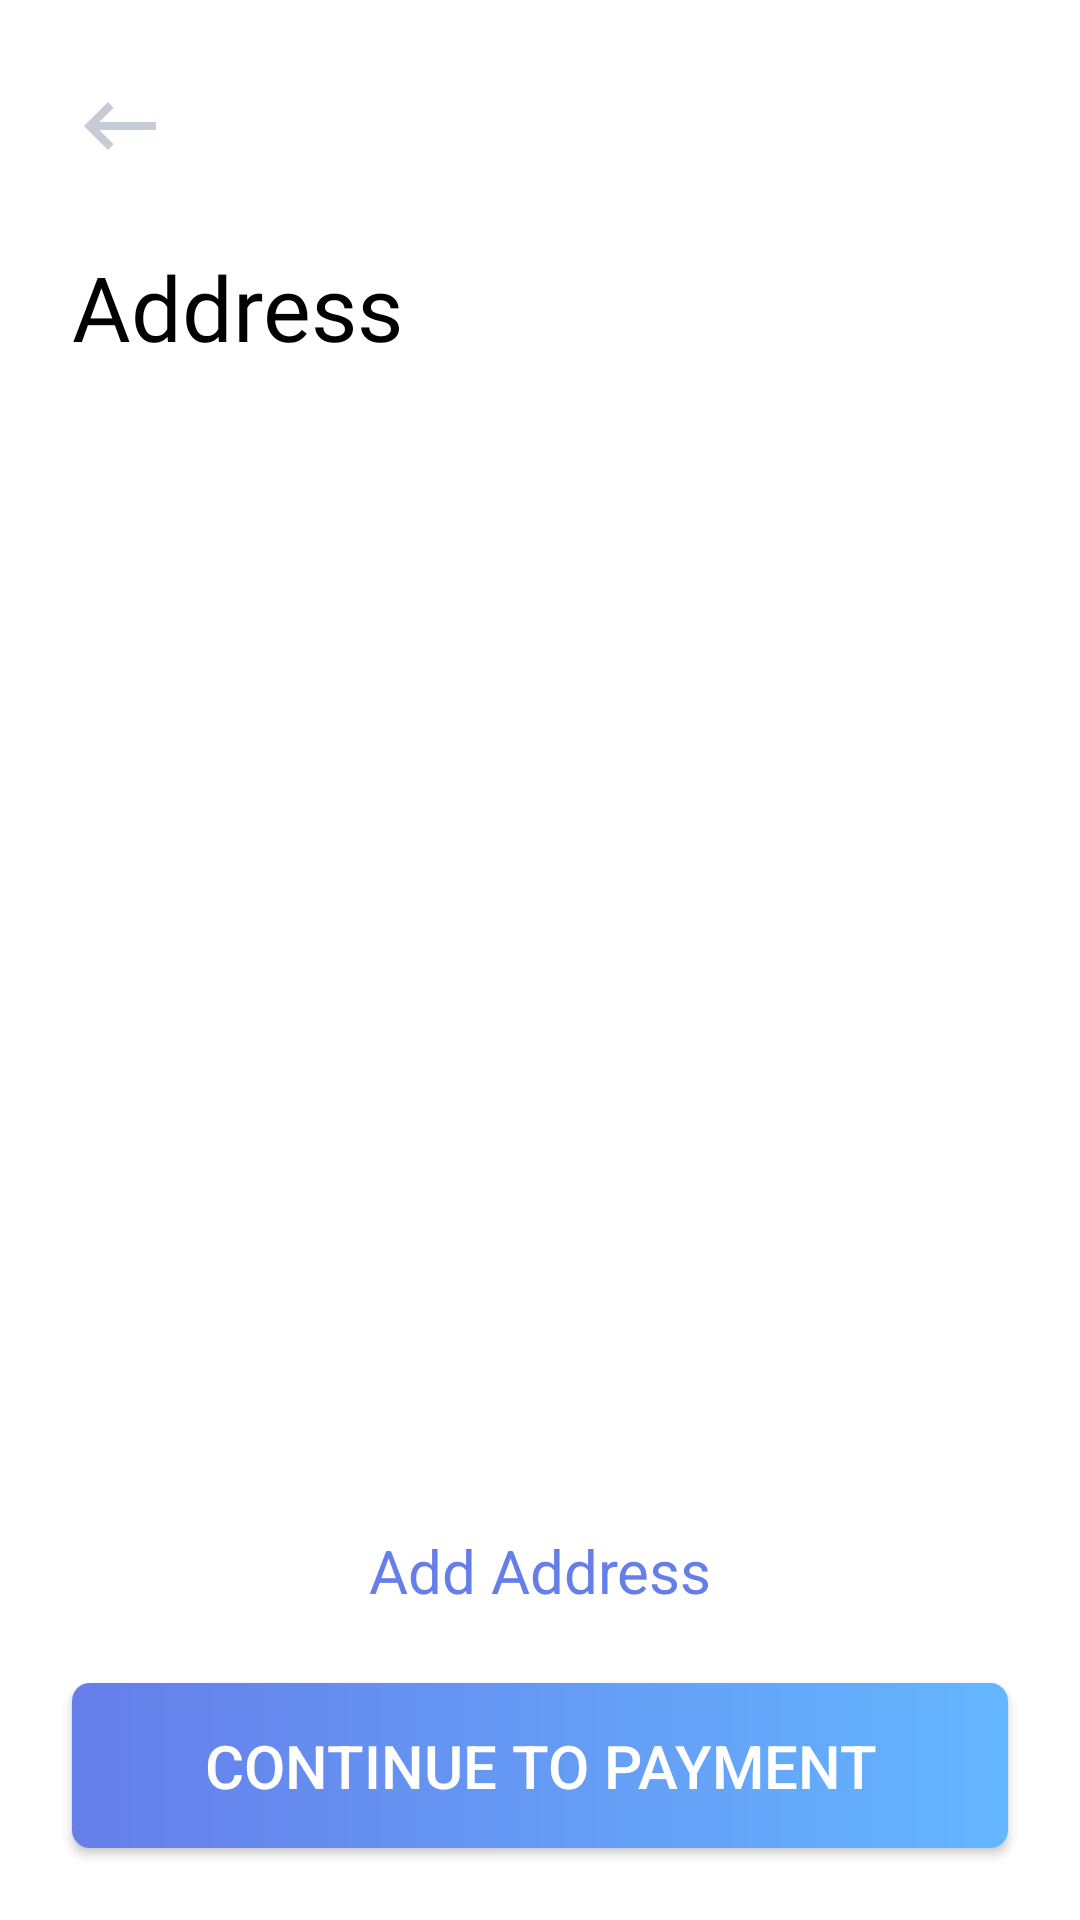

Locate icon controls on the screen. Image size 1080x1920, boxes as (x1=x1, y1=y1, x2=x2, y2=y2).
keyboard backspace: (x1=84, y1=102, x2=156, y2=150)
